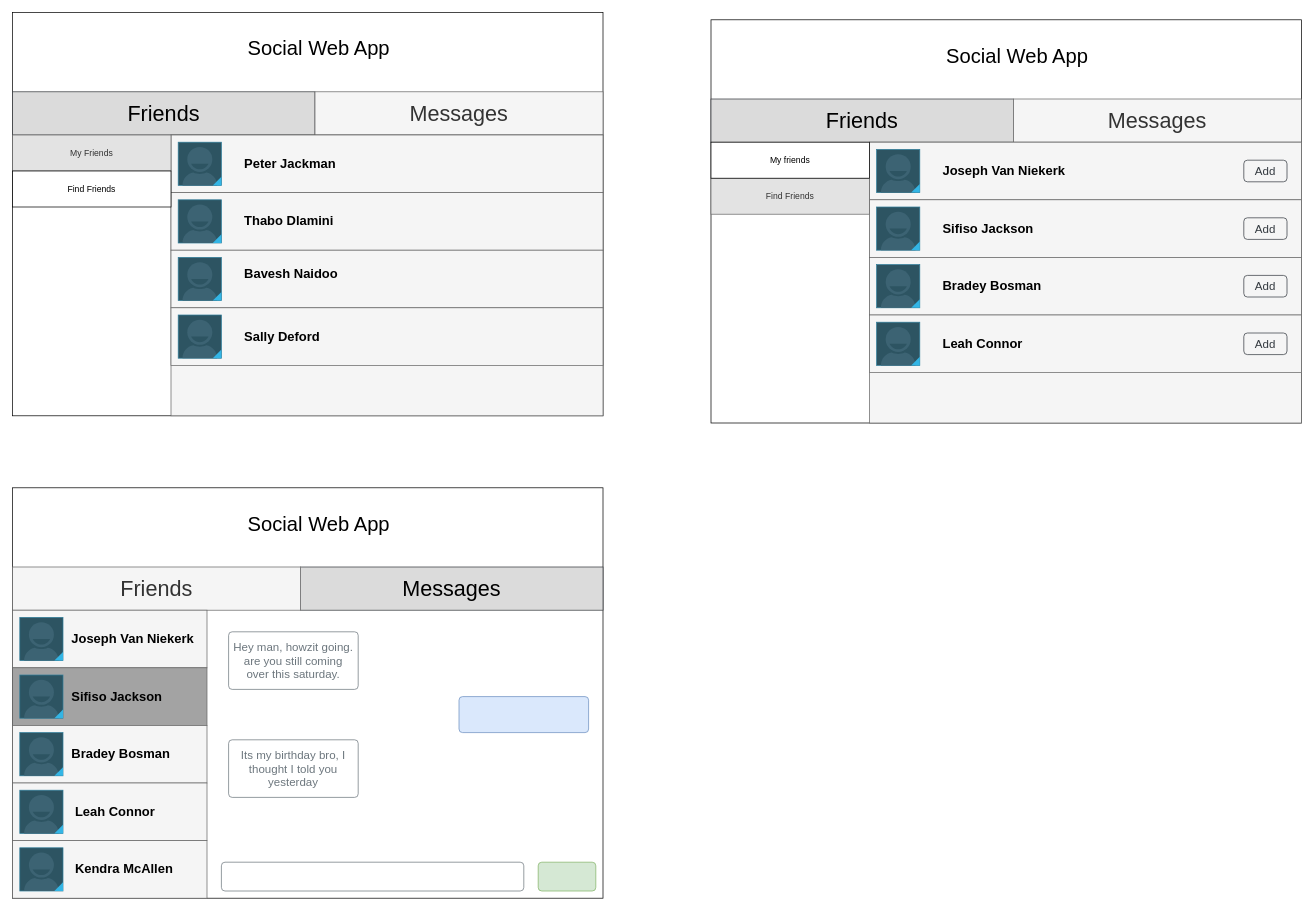
Image size: 1314x911. Some labels were removed from this diagram. Here are the shapes that lost their labels. From the top down, the centre of each, then its label:
At pixel 523 714: "what's happening this saturday bro?".
At pixel 372 876: "type here...".
At pixel 566 876: "send".
